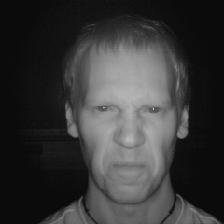sad: (53, 16, 193, 208)
